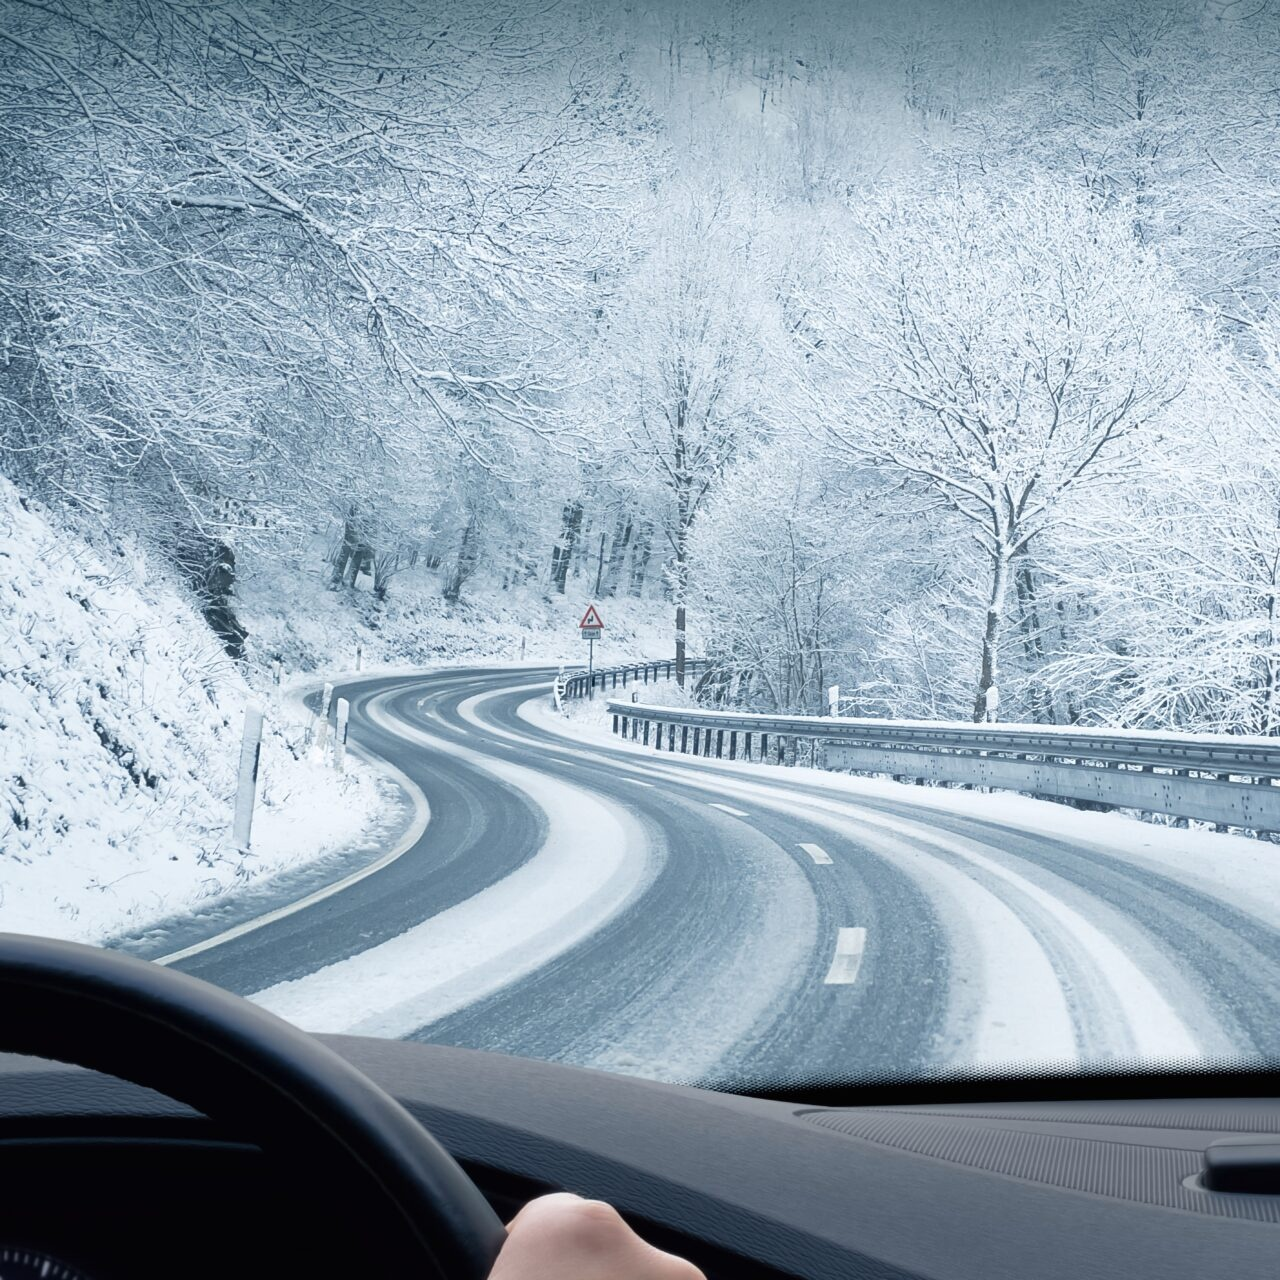sign: (579, 604, 605, 628), (581, 627, 602, 640)
